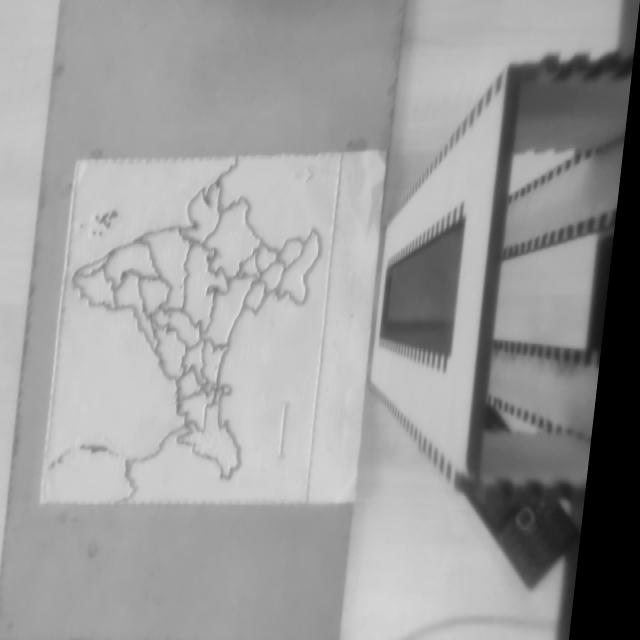map: (41, 126, 342, 529)
